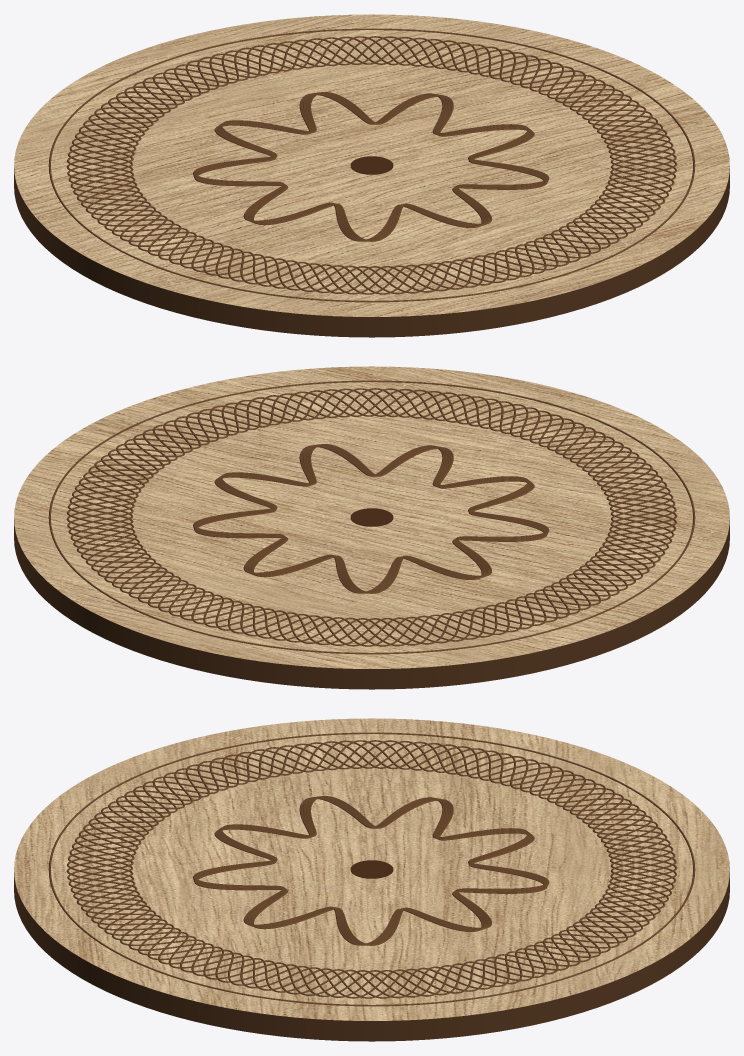
File: guilloche-coaster.glb
The picture shows the model from 3 angles, top to bottom: view 1: azimuth 30°, elevation 25°; view 2: azimuth 150°, elevation 25°; view 3: azimuth 270°, elevation 25°; orthographic projection.
Parts seen in each view (by area): view 1: body0, score0, engrave0; view 2: body0, score0, engrave0; view 3: body0, score0, engrave0.
Part boxes in pixels (x1=…): body0: x1=14, y1=14, x2=729, y2=337; score0: x1=48, y1=28, x2=695, y2=302; engrave0: x1=350, y1=156, x2=393, y2=174; body0: x1=14, y1=366, x2=729, y2=689; score0: x1=48, y1=380, x2=695, y2=654; engrave0: x1=350, y1=508, x2=393, y2=526; body0: x1=14, y1=718, x2=729, y2=1041; score0: x1=48, y1=732, x2=695, y2=1006; engrave0: x1=350, y1=860, x2=393, y2=878.
Size of the model in its own units: 0.095 by 0.00312 by 0.095.
4 materials, 1 textured.
